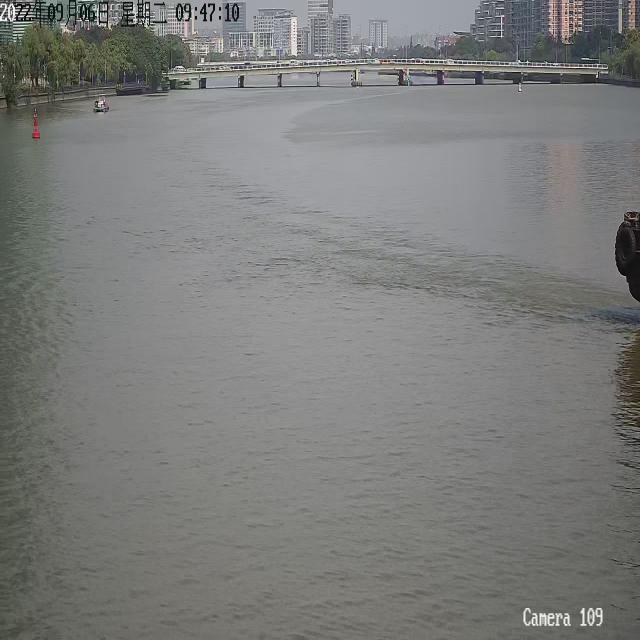ship: (614, 209, 639, 302), (93, 92, 109, 111)
